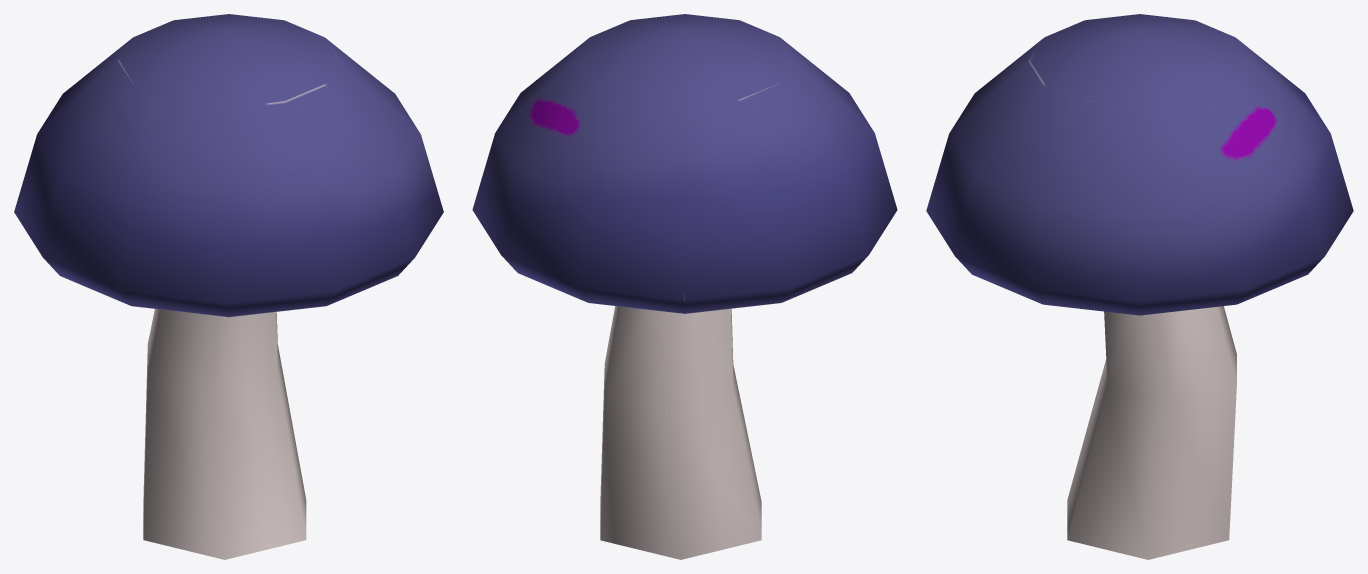
File: mushroom_4.fbx
3 renders of one model, left to right at view 1: azimuth 30°, elevation 25°; view 2: azimuth 150°, elevation 25°; view 3: azimuth 270°, elevation 25°, orthographic.
Visible parts, largest first — view 1: Sphere002; view 2: Sphere002; view 3: Sphere002.
Part boxes in pixels (x1,y1,x2,y2): Sphere002: [14, 14, 443, 559]; Sphere002: [472, 14, 897, 559]; Sphere002: [926, 14, 1353, 559].
Size of the model in its own units: 6.76 by 6.76 by 8.49.
